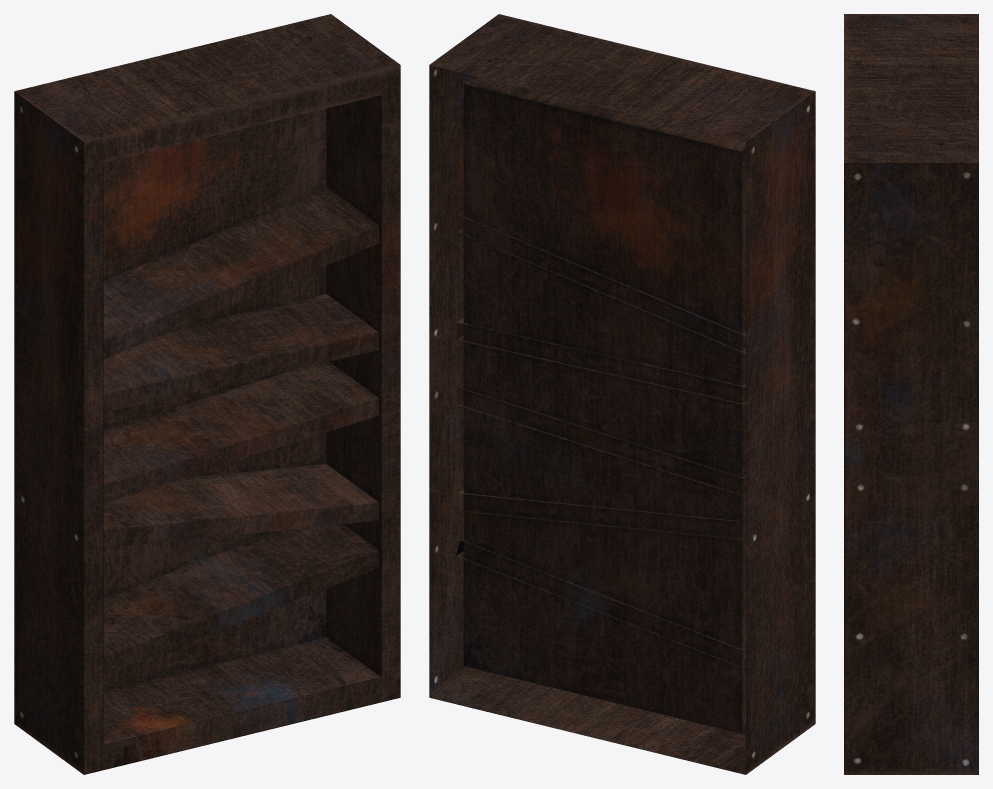
File: simple_3d_cabinet_03.glb
3 views of the same model, side by side, from view 1: azimuth 30°, elevation 25°; view 2: azimuth 150°, elevation 25°; view 3: azimuth 270°, elevation 25° (orthographic). The views are drawn at different scales.
Visible parts, largest first — view 1: SM_Cabinet_03; view 2: SM_Cabinet_03; view 3: SM_Cabinet_03.
Part boxes in pixels (bbox=[...]): SM_Cabinet_03: bbox=[14, 14, 400, 774]; SM_Cabinet_03: bbox=[429, 14, 815, 774]; SM_Cabinet_03: bbox=[844, 14, 978, 774].
Bounding box in the file's own units: 0.0498 × 0.095 × 0.019.
Materials: 1 (1 with a texture image).
